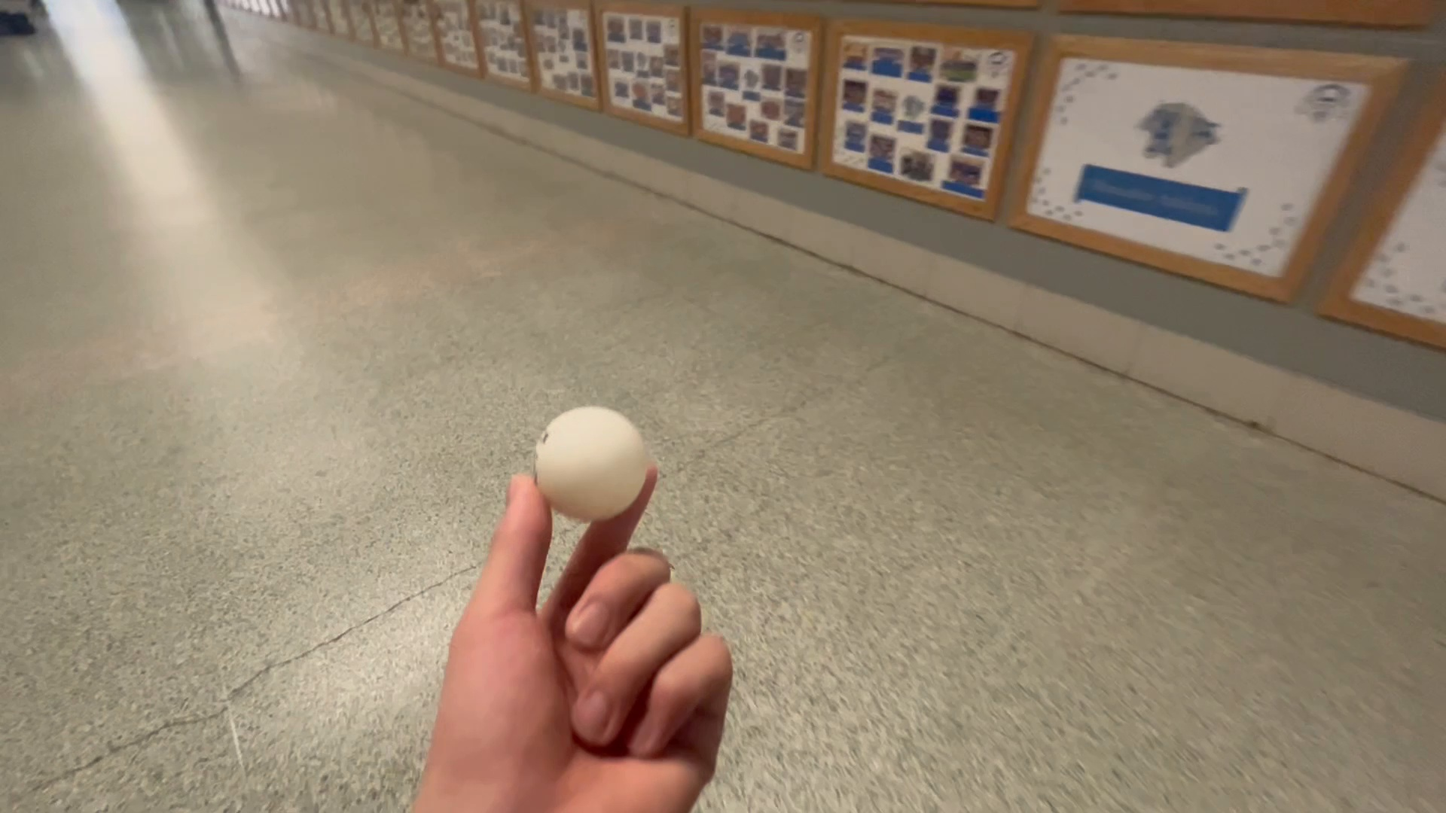Ball: (498, 390, 689, 524)
